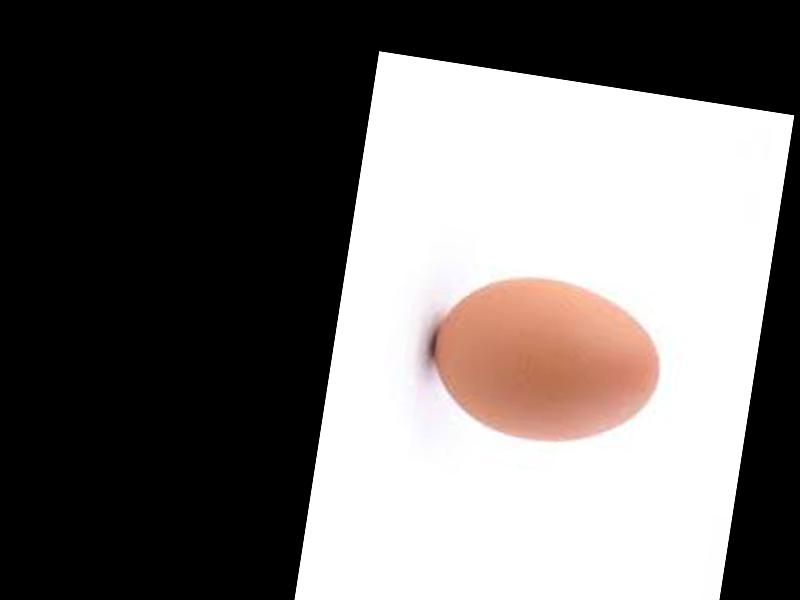Eggs: (423, 264, 670, 459)
